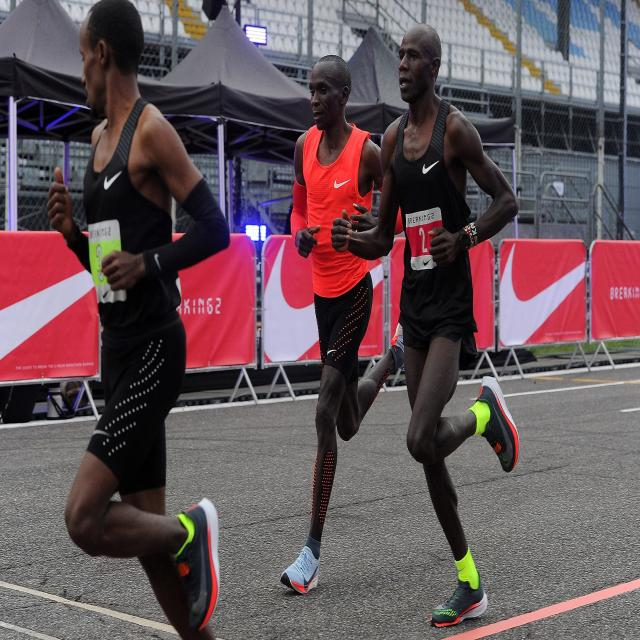nike: (491, 233, 602, 371), (98, 154, 128, 200), (326, 161, 361, 196)
